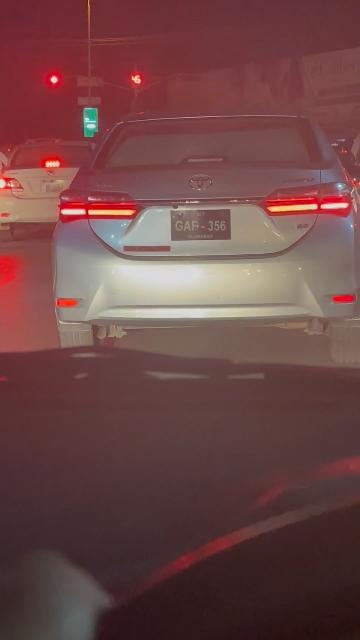plate: (172, 212, 230, 240)
